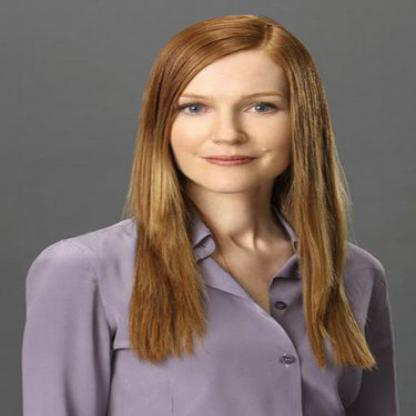long-hair: (105, 191, 363, 246)
